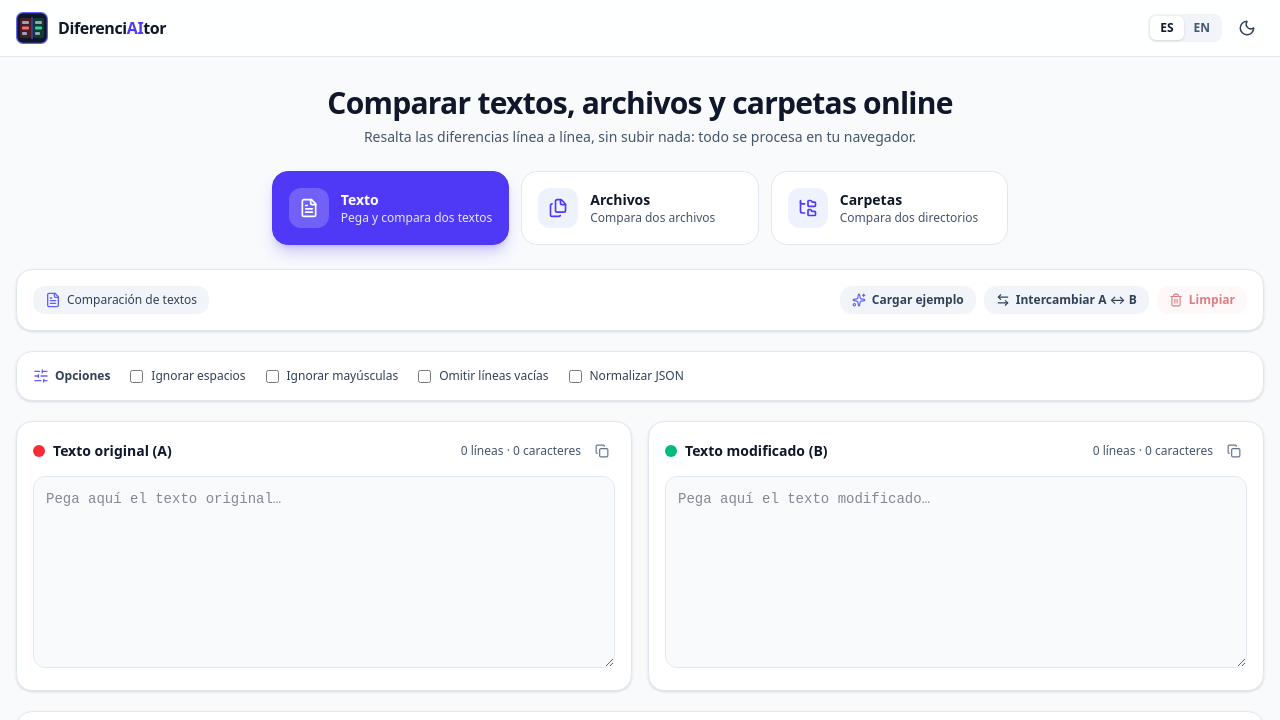
Test: Pie de página › se traduce al inglés
This screenshot has width=1280, height=720.
Click the button with aria-label "English" at (1202, 28), box x1=1184 y1=16 x2=1220 y2=40
(page scrolled)
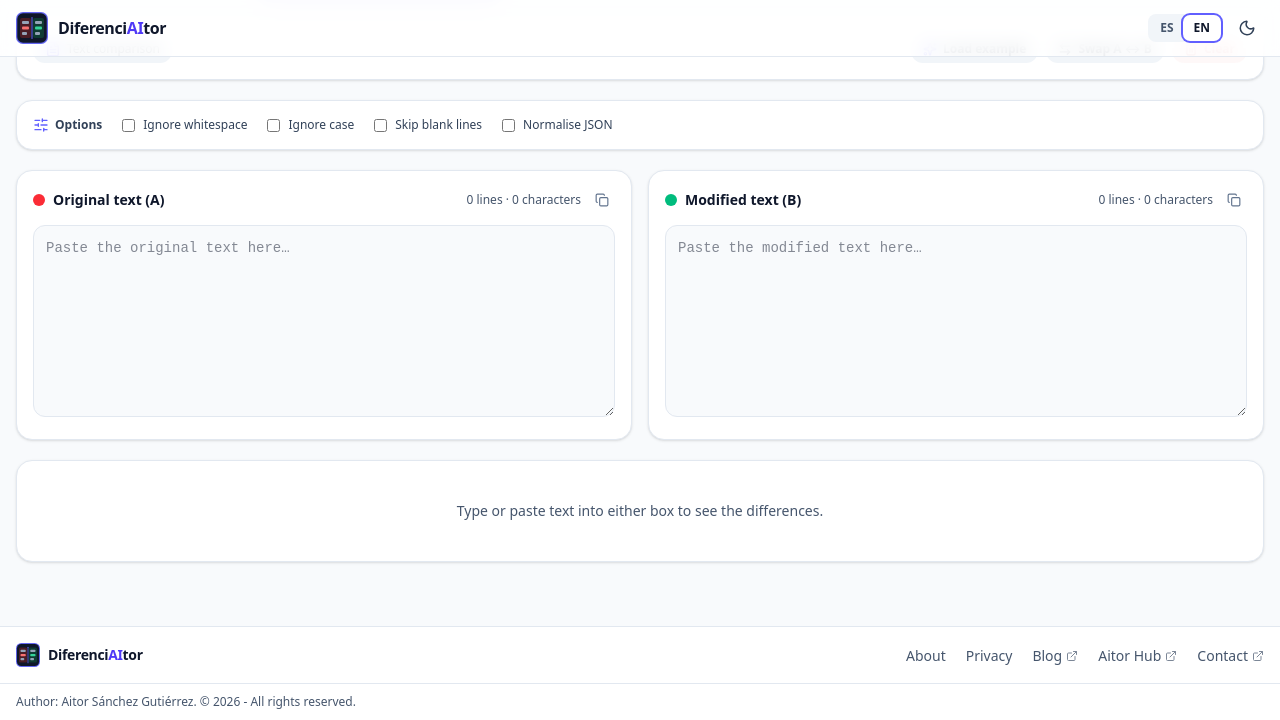
Expected: the link named "Contact (opens in a new tab)" is shown, x1=1197 y1=646 x2=1264 y2=666
Expected: the text "Author: Aitor Sánchez Gutiérrez. © 2026 - All rights reserved." is shown, x1=16 y1=693 x2=356 y2=710
